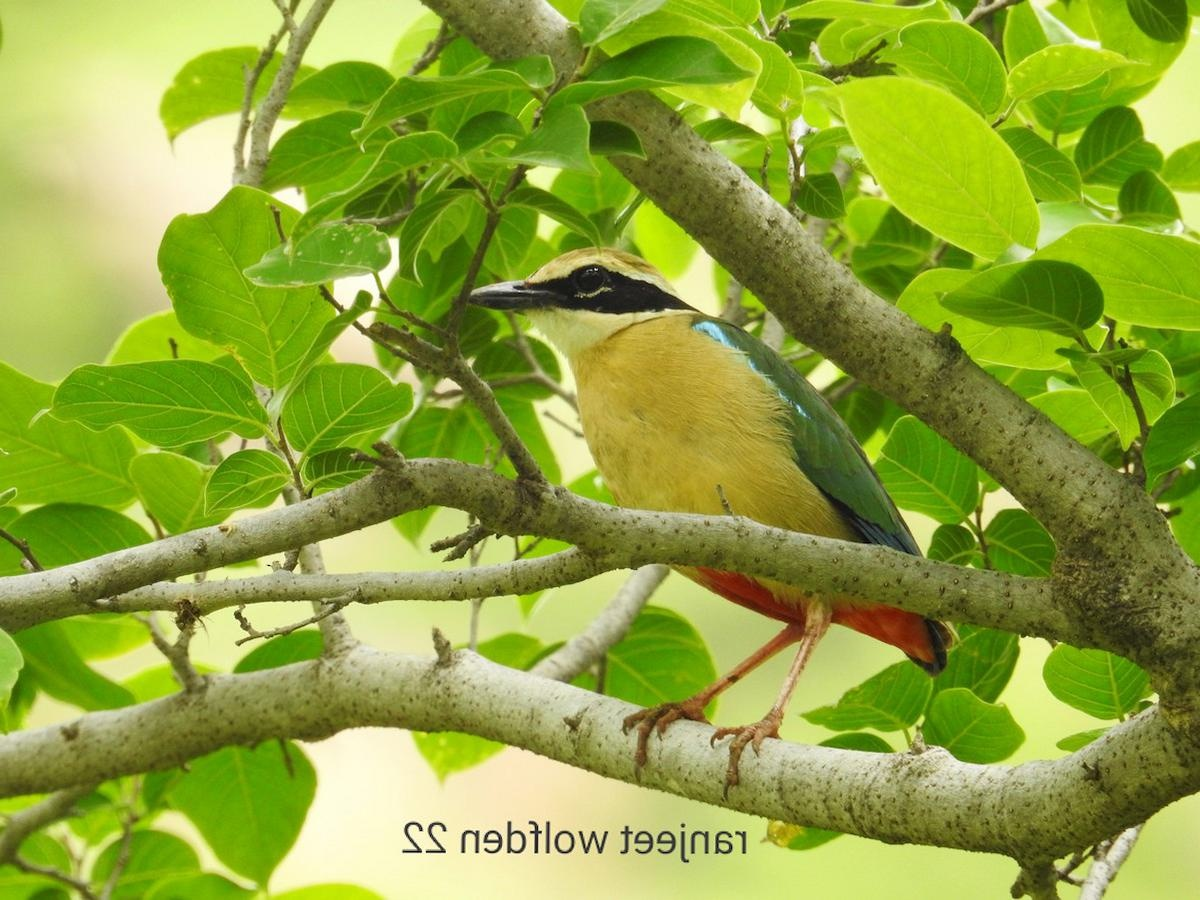pitta: (451, 165, 960, 648)
